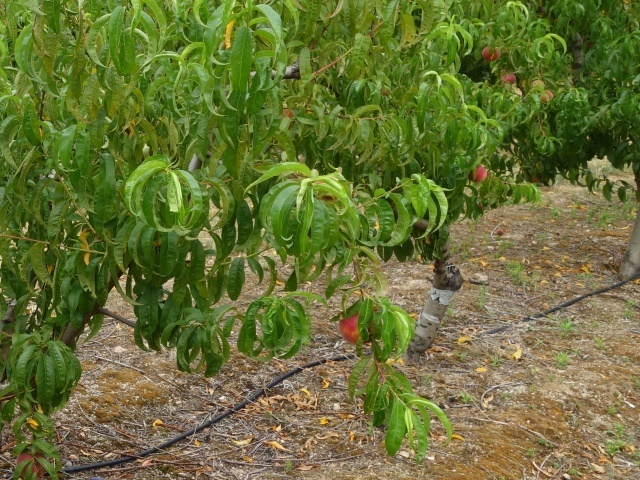peach: (335, 306, 373, 349), (11, 446, 51, 479), (464, 160, 490, 185), (478, 43, 502, 64), (498, 67, 517, 90)
